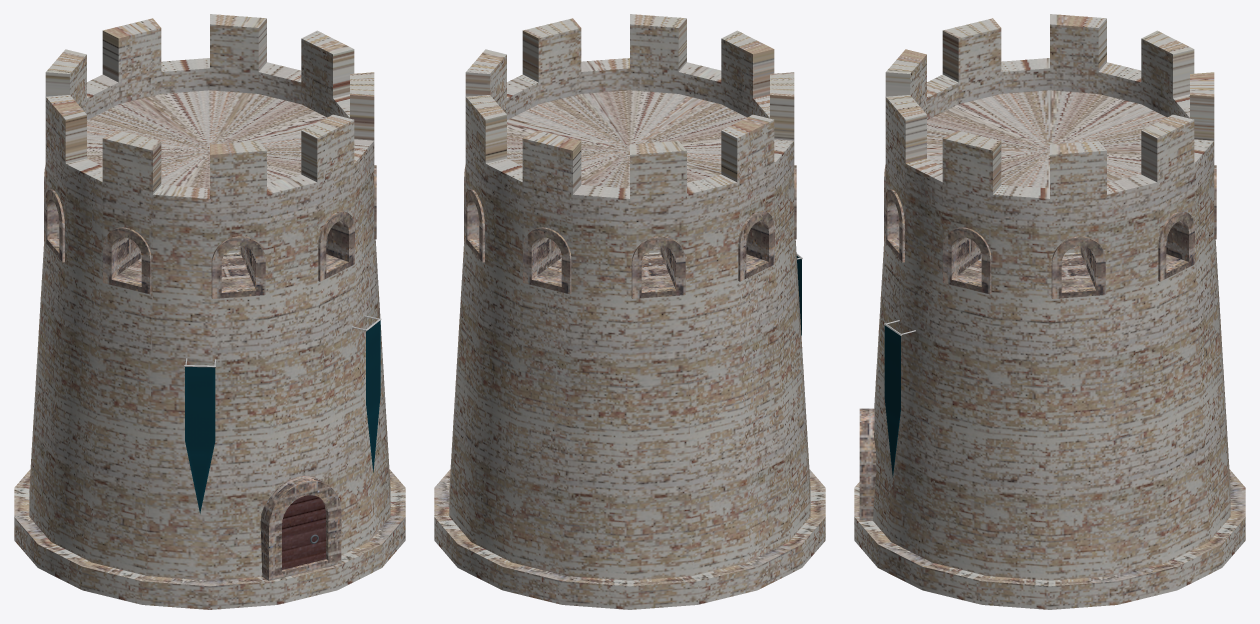
The model's file is CanonTower.fbx.
3 views of the same model, side by side, from view 1: azimuth 30°, elevation 25°; view 2: azimuth 150°, elevation 25°; view 3: azimuth 270°, elevation 25° (orthographic).
Parts seen in each view (by area): view 1: BASE, Tube, Plane, Tube_5, Door, Tube_6, Tube_4, Plane_2, Tube_7; view 2: BASE, Tube_8, Tube_0, Tube_7, Tube_1; view 3: BASE, Tube_2, Tube_3, Tube_1, Plane_2, Tube, Tube_4.
Boxes of the visible parts, box(x1,y1,x2,y2) form: BASE: box(14, 14, 405, 609); Tube: box(260, 475, 341, 580); Plane: box(185, 367, 215, 513); Tube_5: box(211, 236, 265, 298); Door: box(282, 495, 325, 569); Tube_6: box(103, 227, 151, 294); Tube_4: box(318, 211, 354, 281); Plane_2: box(366, 320, 380, 472); Tube_7: box(44, 189, 64, 262); BASE: box(434, 14, 825, 609); Tube_8: box(631, 236, 685, 298); Tube_0: box(523, 227, 571, 294); Tube_7: box(738, 211, 774, 281); Tube_1: box(464, 189, 484, 262); BASE: box(854, 14, 1245, 609); Tube_2: box(1051, 236, 1105, 298); Tube_3: box(943, 227, 991, 294); Tube_1: box(1158, 211, 1194, 281); Plane_2: box(884, 325, 900, 477); Tube: box(859, 408, 876, 520); Tube_4: box(884, 189, 904, 262).
Size of the model in its own units: 147 by 181 by 145.
1 material, 1 textured.
